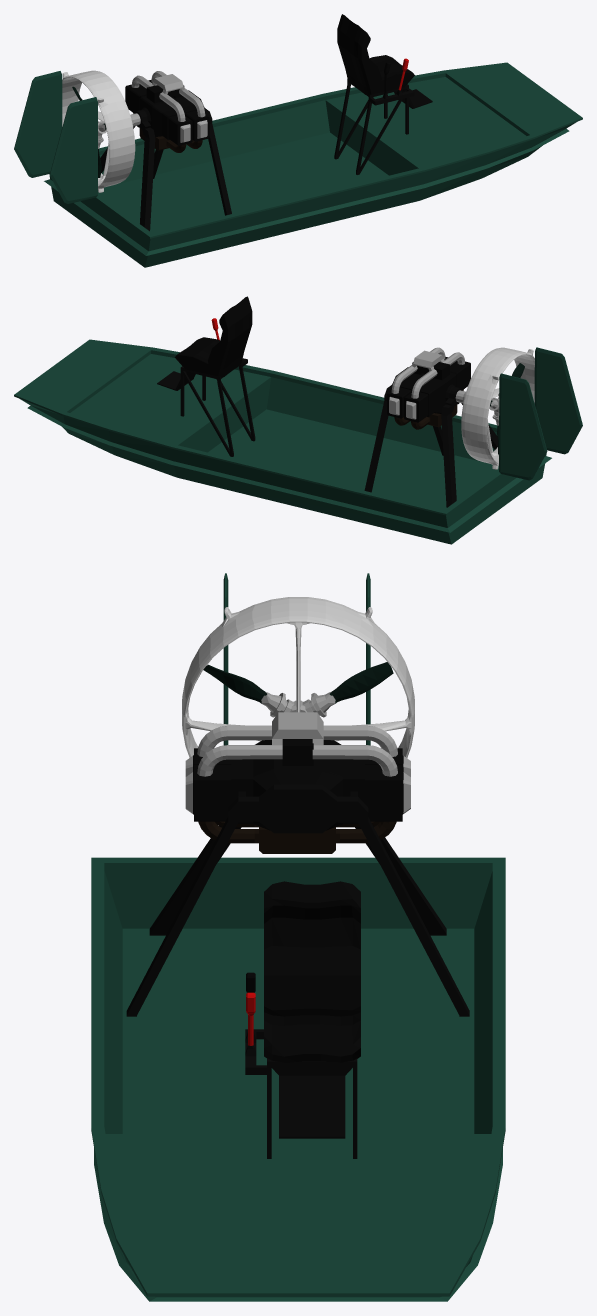
Rendered from airboat.obj.
3 views of the same model, one above another, from view 1: azimuth 30°, elevation 25°; view 2: azimuth 150°, elevation 25°; view 3: azimuth 270°, elevation 25° (orthographic). The views are drawn at different scales.
Parts seen in each view (by area): view 1: boat, rudder, shroud, seat, emounts, stand, engine, intakes, cylinders, exhaust, heads; view 2: boat, rudder, shroud, seat, emounts, stand, engine, intakes, cylinders, exhaust, heads; view 3: boat, seat, emounts, shroud, stand, intakes, engine, cylinders, exhaust, prop, rudder, hub.
Part boxes in pixels (left/top/right/bottom): boat: left=44, top=62, right=582, bottom=267; rudder: left=14, top=71, right=97, bottom=203; shroud: left=62, top=70, right=135, bottom=192; seat: left=337, top=14, right=414, bottom=95; emounts: left=100, top=90, right=231, bottom=231; stand: left=334, top=78, right=432, bottom=174; engine: left=134, top=85, right=196, bottom=139; intakes: left=131, top=71, right=205, bottom=121; cylinders: left=125, top=79, right=209, bottom=145; exhaust: left=133, top=113, right=202, bottom=152; heads: left=180, top=120, right=207, bottom=142; boat: left=14, top=339, right=551, bottom=544; rudder: left=499, top=347, right=582, bottom=480; shroud: left=461, top=347, right=534, bottom=469; seat: left=175, top=296, right=252, bottom=377; emounts: left=364, top=367, right=498, bottom=507; stand: left=157, top=358, right=255, bottom=456; engine: left=399, top=362, right=462, bottom=416; intakes: left=391, top=347, right=464, bottom=398; cylinders: left=387, top=356, right=470, bottom=422; exhaust: left=394, top=389, right=463, bottom=429; heads: left=389, top=397, right=416, bottom=419; boat: left=91, top=857, right=505, bottom=1301; seat: left=264, top=881, right=360, bottom=1062; emounts: left=126, top=784, right=469, bottom=1016; shroud: left=182, top=597, right=414, bottom=757; stand: left=245, top=1029, right=357, bottom=1158; intakes: left=197, top=712, right=397, bottom=776; engine: left=230, top=739, right=366, bottom=830; cylinders: left=193, top=748, right=403, bottom=821; exhaust: left=198, top=821, right=396, bottom=853; prop: left=203, top=662, right=393, bottom=703; rudder: left=223, top=573, right=370, bottom=745; hub: left=261, top=692, right=335, bottom=717.
Size of the model in its own units: 16.23 by 4.8 by 5.68.
